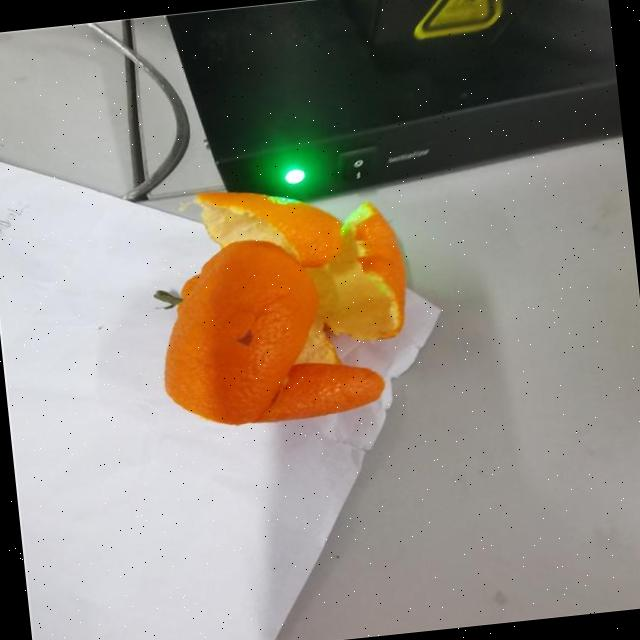orange-peel: (141, 168, 421, 434), (148, 232, 330, 430)
